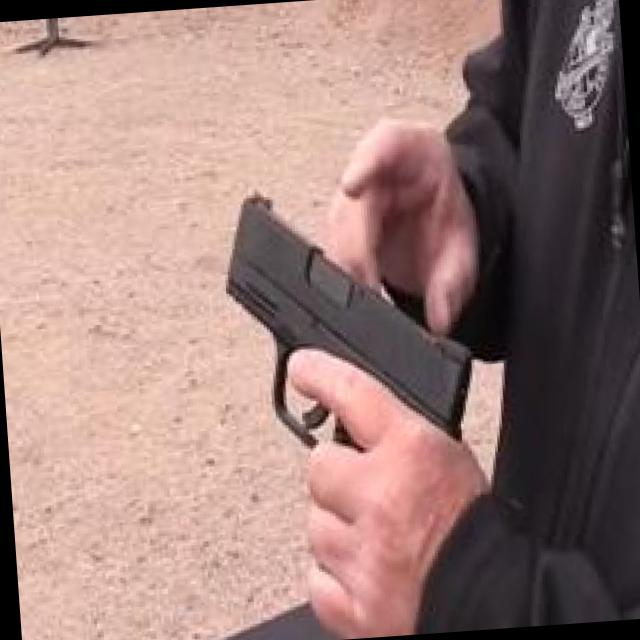Guns: (198, 152, 497, 516)
